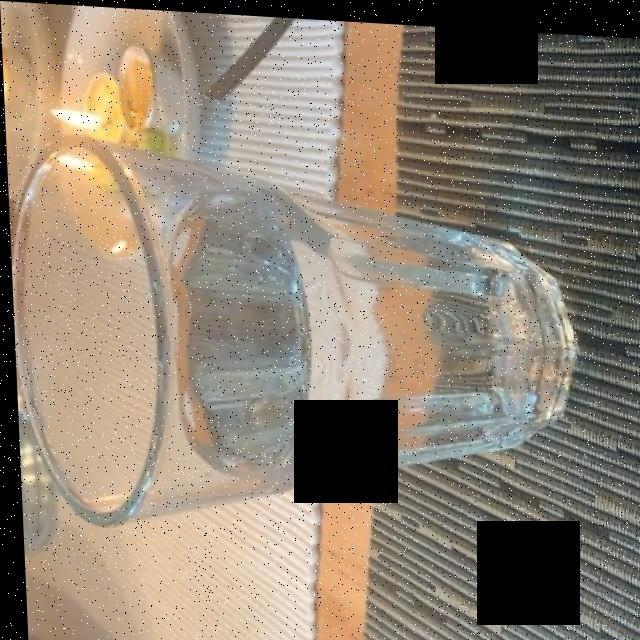water: (168, 178, 554, 474)
